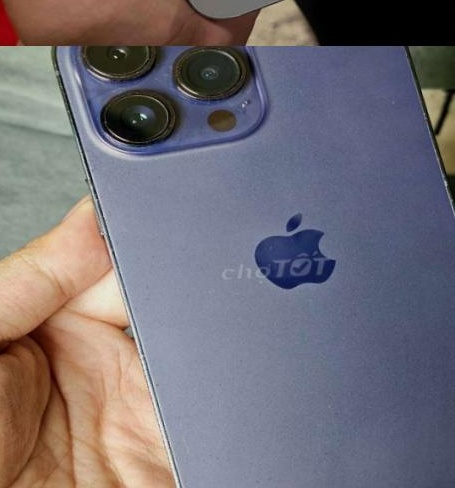scratch: (83, 73, 185, 169), (163, 46, 259, 120), (59, 46, 165, 91), (135, 313, 165, 398), (246, 235, 284, 295), (152, 169, 168, 185)
